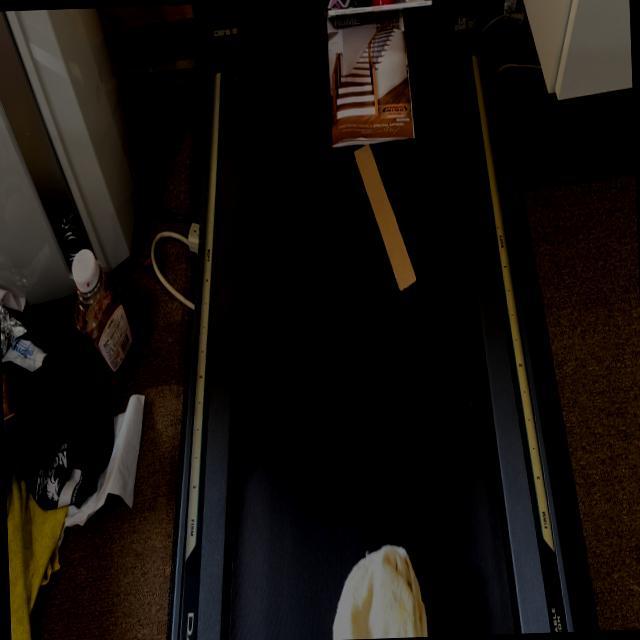Recycle: (326, 0, 416, 142), (342, 143, 418, 295)
Trash: (324, 540, 430, 640)
